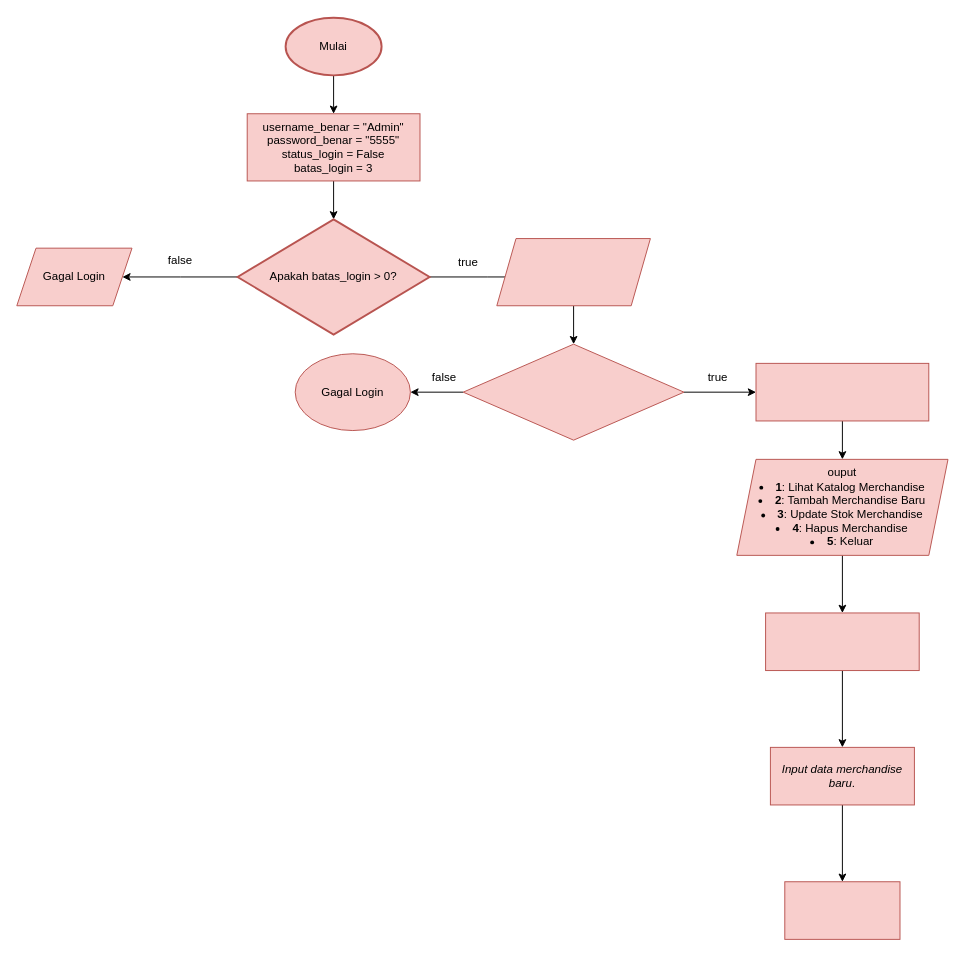
This 965x956 diagram has some shape labels left out. Here are the shapes that lost their labels. From the top down, the centre of each, then its label:
At pixel 573 272: "Input Username dan Password".
At pixel 573 391: "Username dan Password Benar?".
At pixel 842 391: "Tampilkan Menu Katalog Merchandise F1".
At pixel 842 641: "Tampilkan daftar katalog merchandise .".
